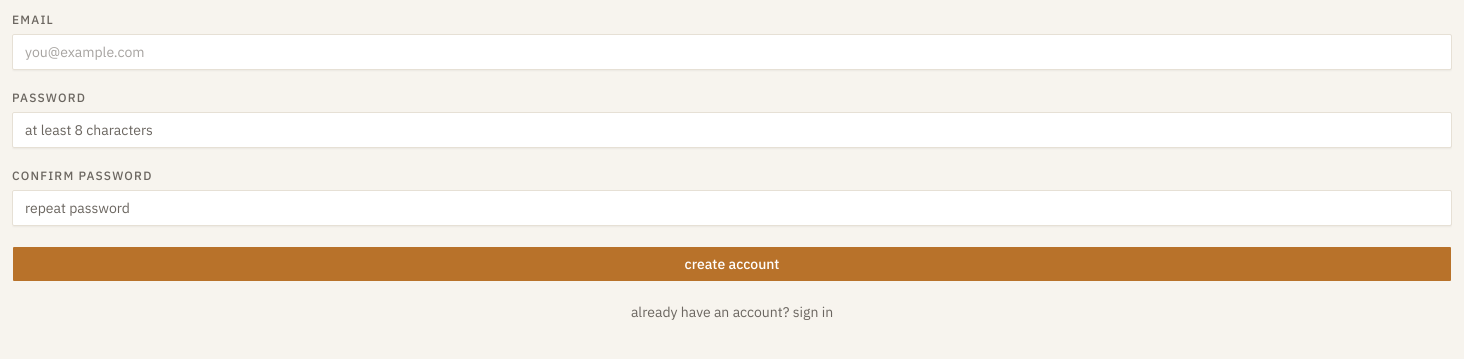
Test: SignupForm › shows min-length error for short password
Type "u@e.com" into the field labelled "Email" at (732,52), box [12,34,1452,70]
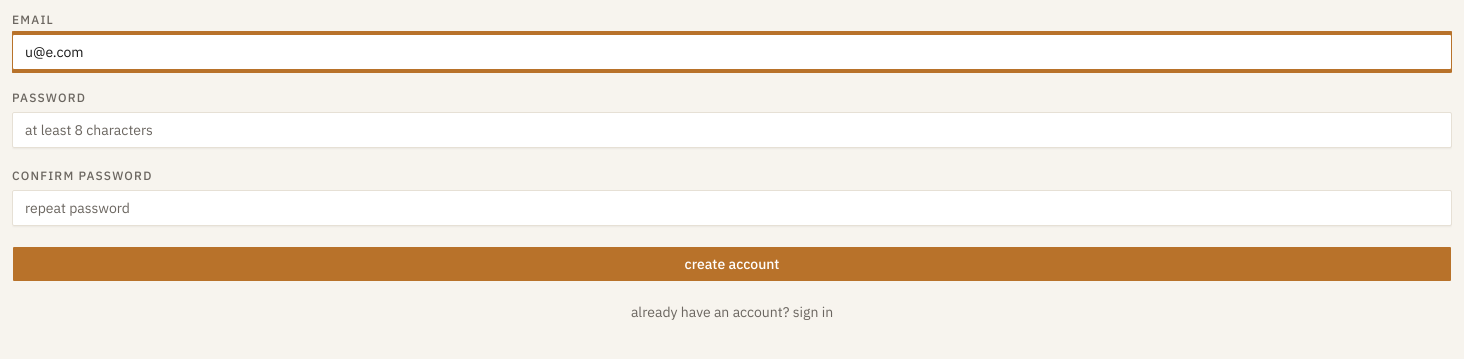
Type "short" into the password field labelled "Password" at (732,130), box [12,112,1452,148]
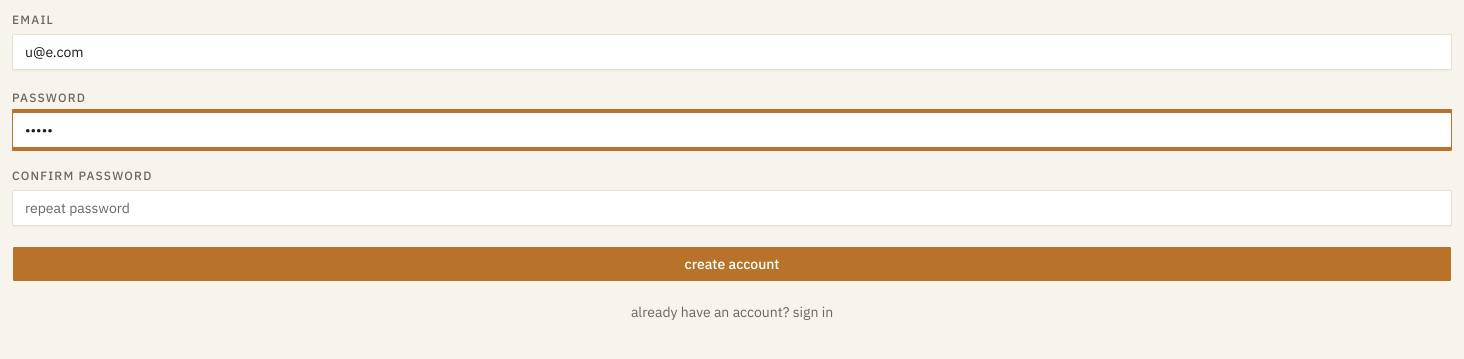
Type "short" into the password field labelled "Confirm Password" at (732,208), box [12,190,1452,226]
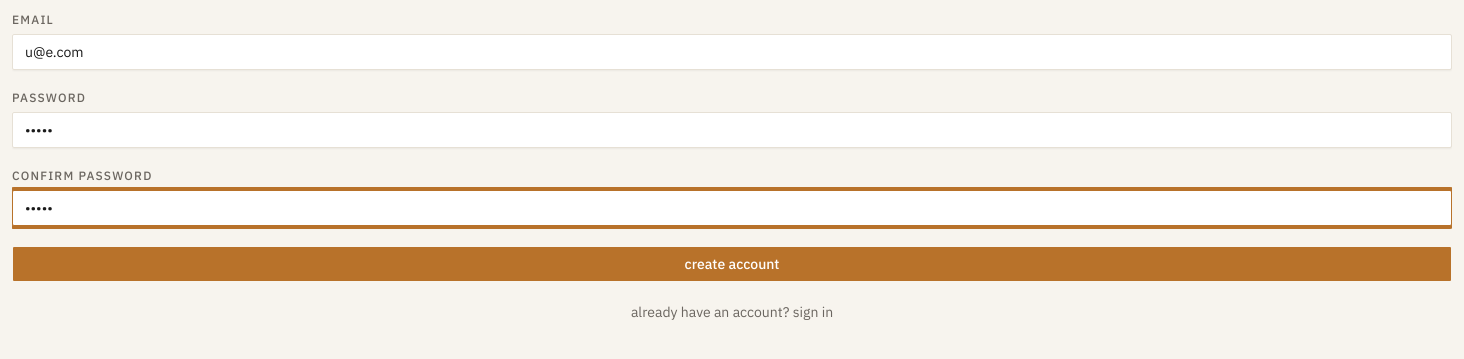
Click the button with test id "signup-submit" at (732,264), box [12,246,1452,282]
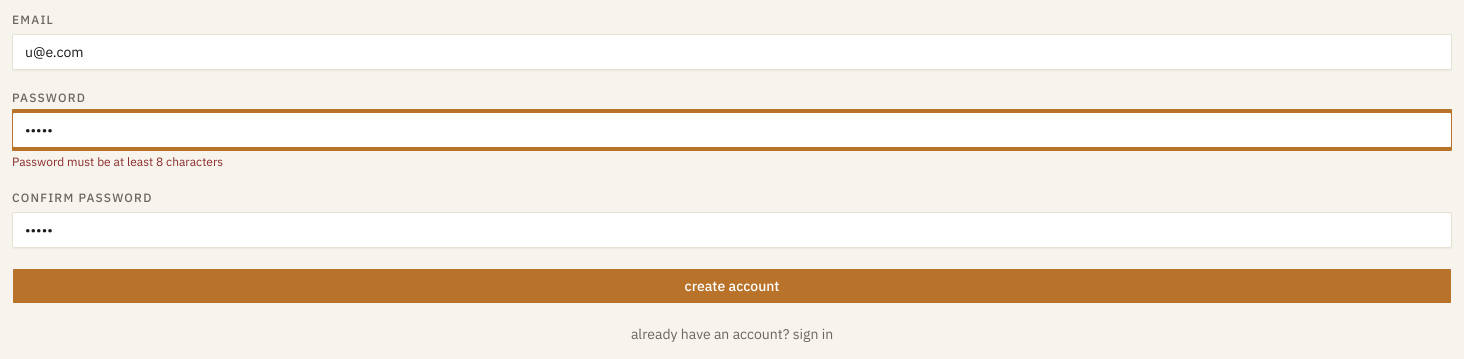
expect the text "Password must be at least 8 characters" is shown: met, box [12,154,223,169]
